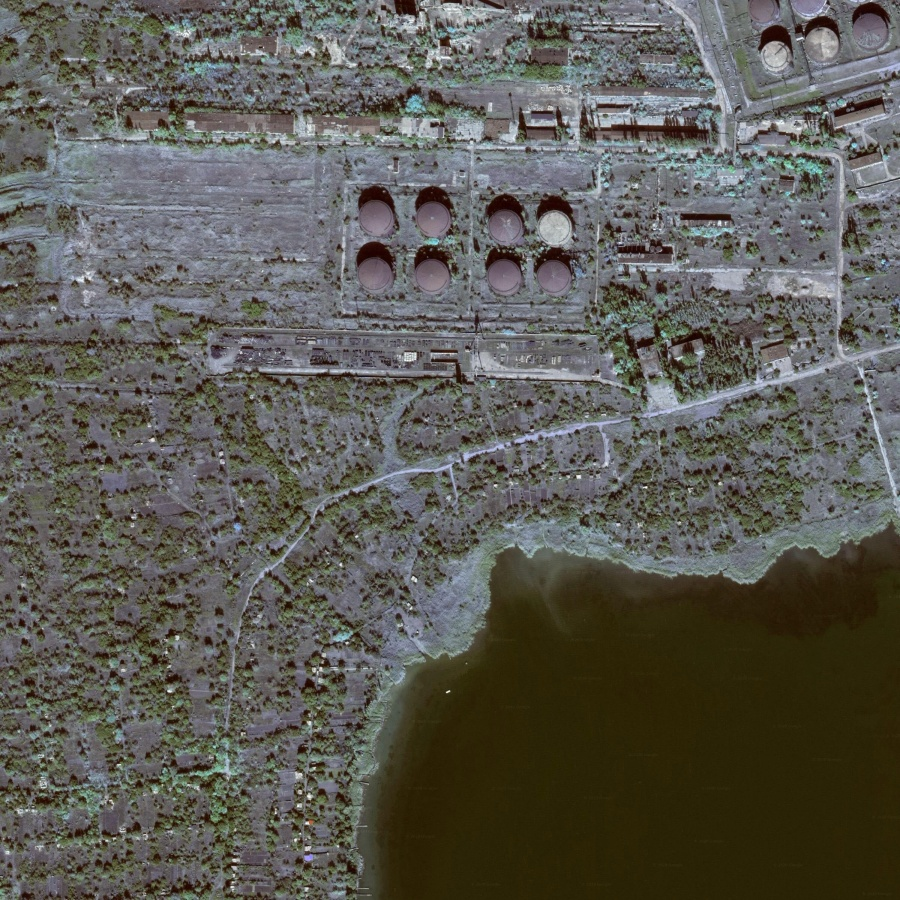PowerPlant: (323, 146, 593, 324)
